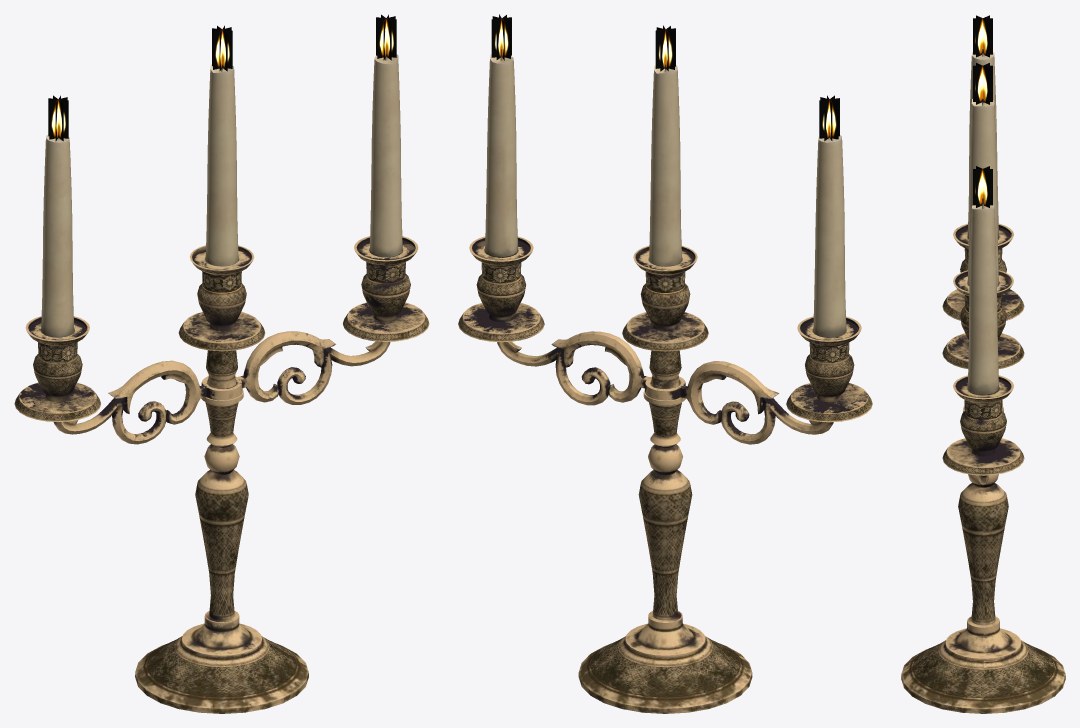
Rendered from sconce-brass.glb.
3 renders of one model, left to right at view 1: azimuth 30°, elevation 25°; view 2: azimuth 150°, elevation 25°; view 3: azimuth 270°, elevation 25°, orthographic. The views are drawn at different scales.
Parts seen in each view (by area): view 1: sconce-brass; view 2: sconce-brass; view 3: sconce-brass.
Part boxes in pixels (box(x1,y1,x2,y2)): sconce-brass: box(14, 14, 429, 713); sconce-brass: box(458, 14, 872, 713); sconce-brass: box(901, 15, 1065, 713).
Bounding box in the file's own units: 0.2611 × 0.4009 × 0.0974.
Materials: 3 (3 with a texture image).
